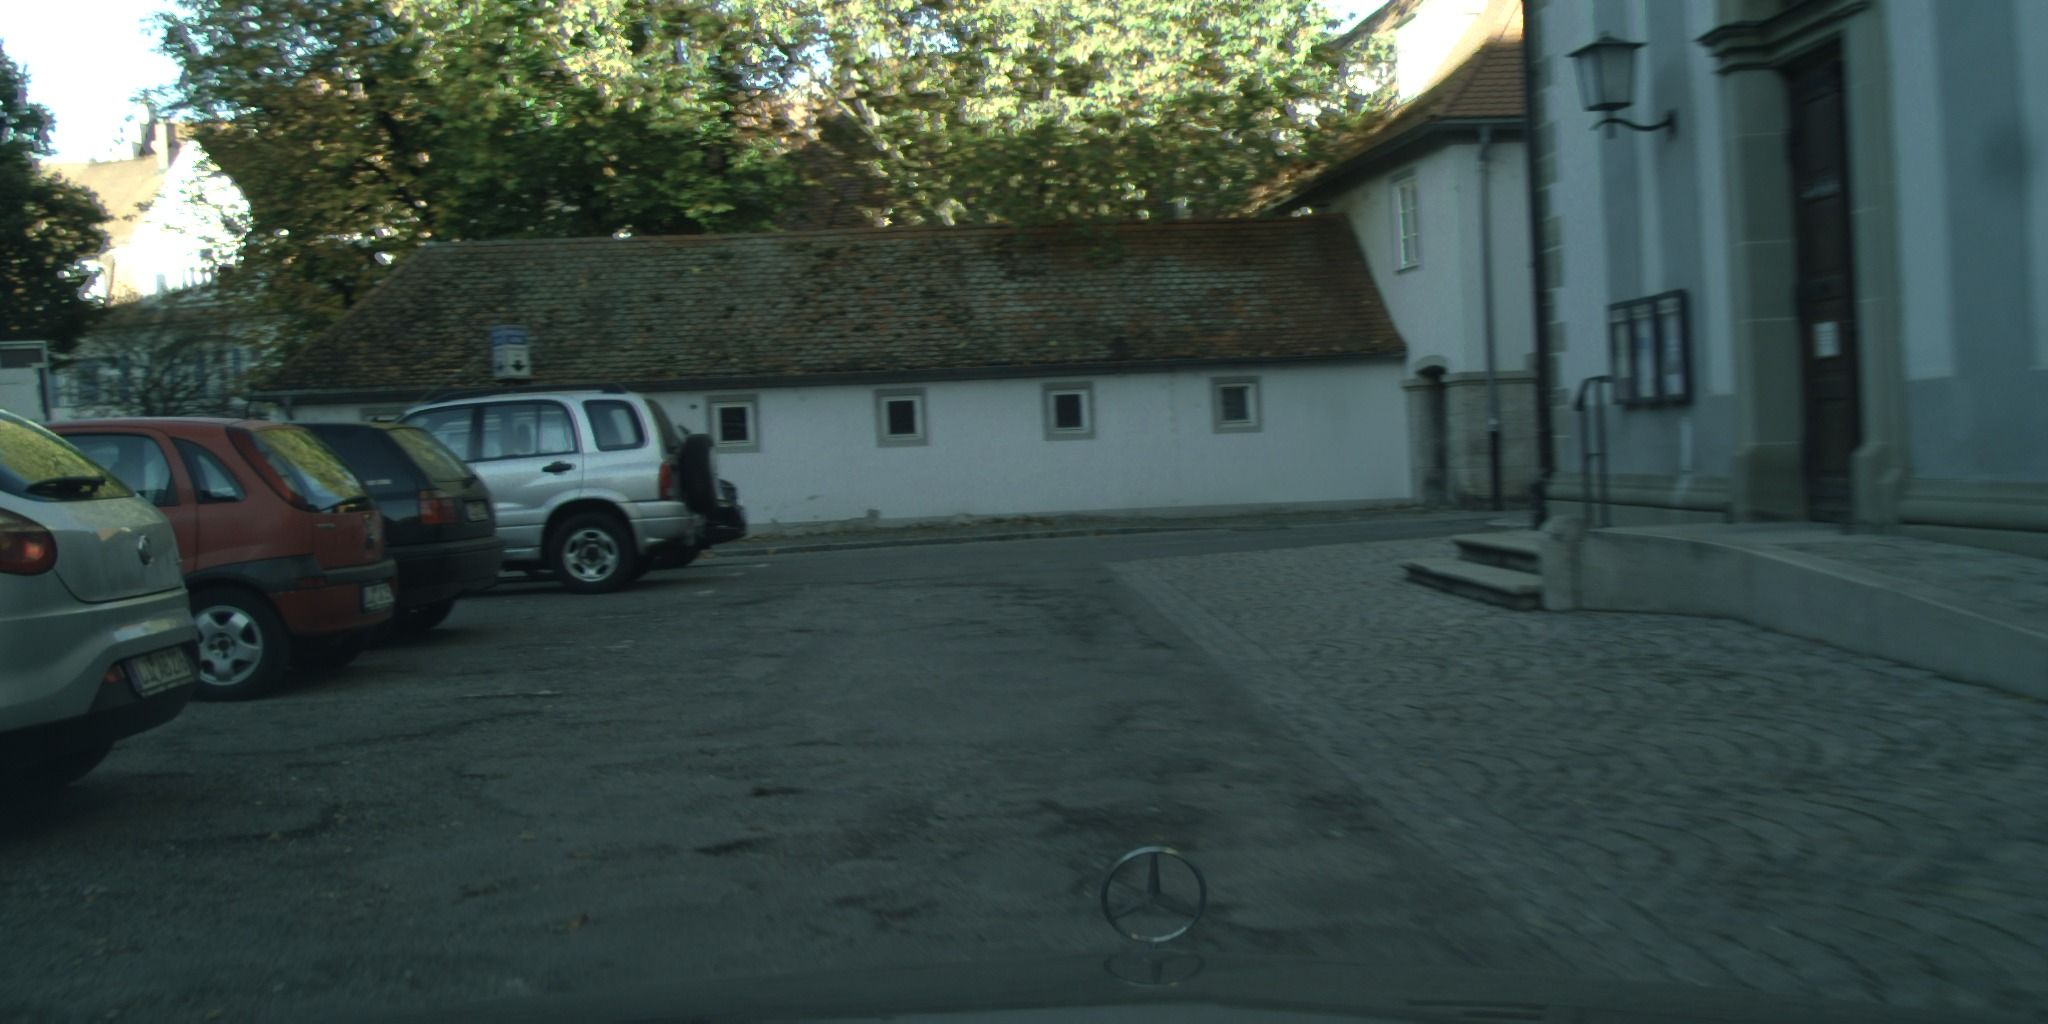car: (29, 417, 398, 704), (0, 408, 202, 808), (388, 381, 721, 596), (281, 421, 505, 630), (648, 475, 747, 571)
